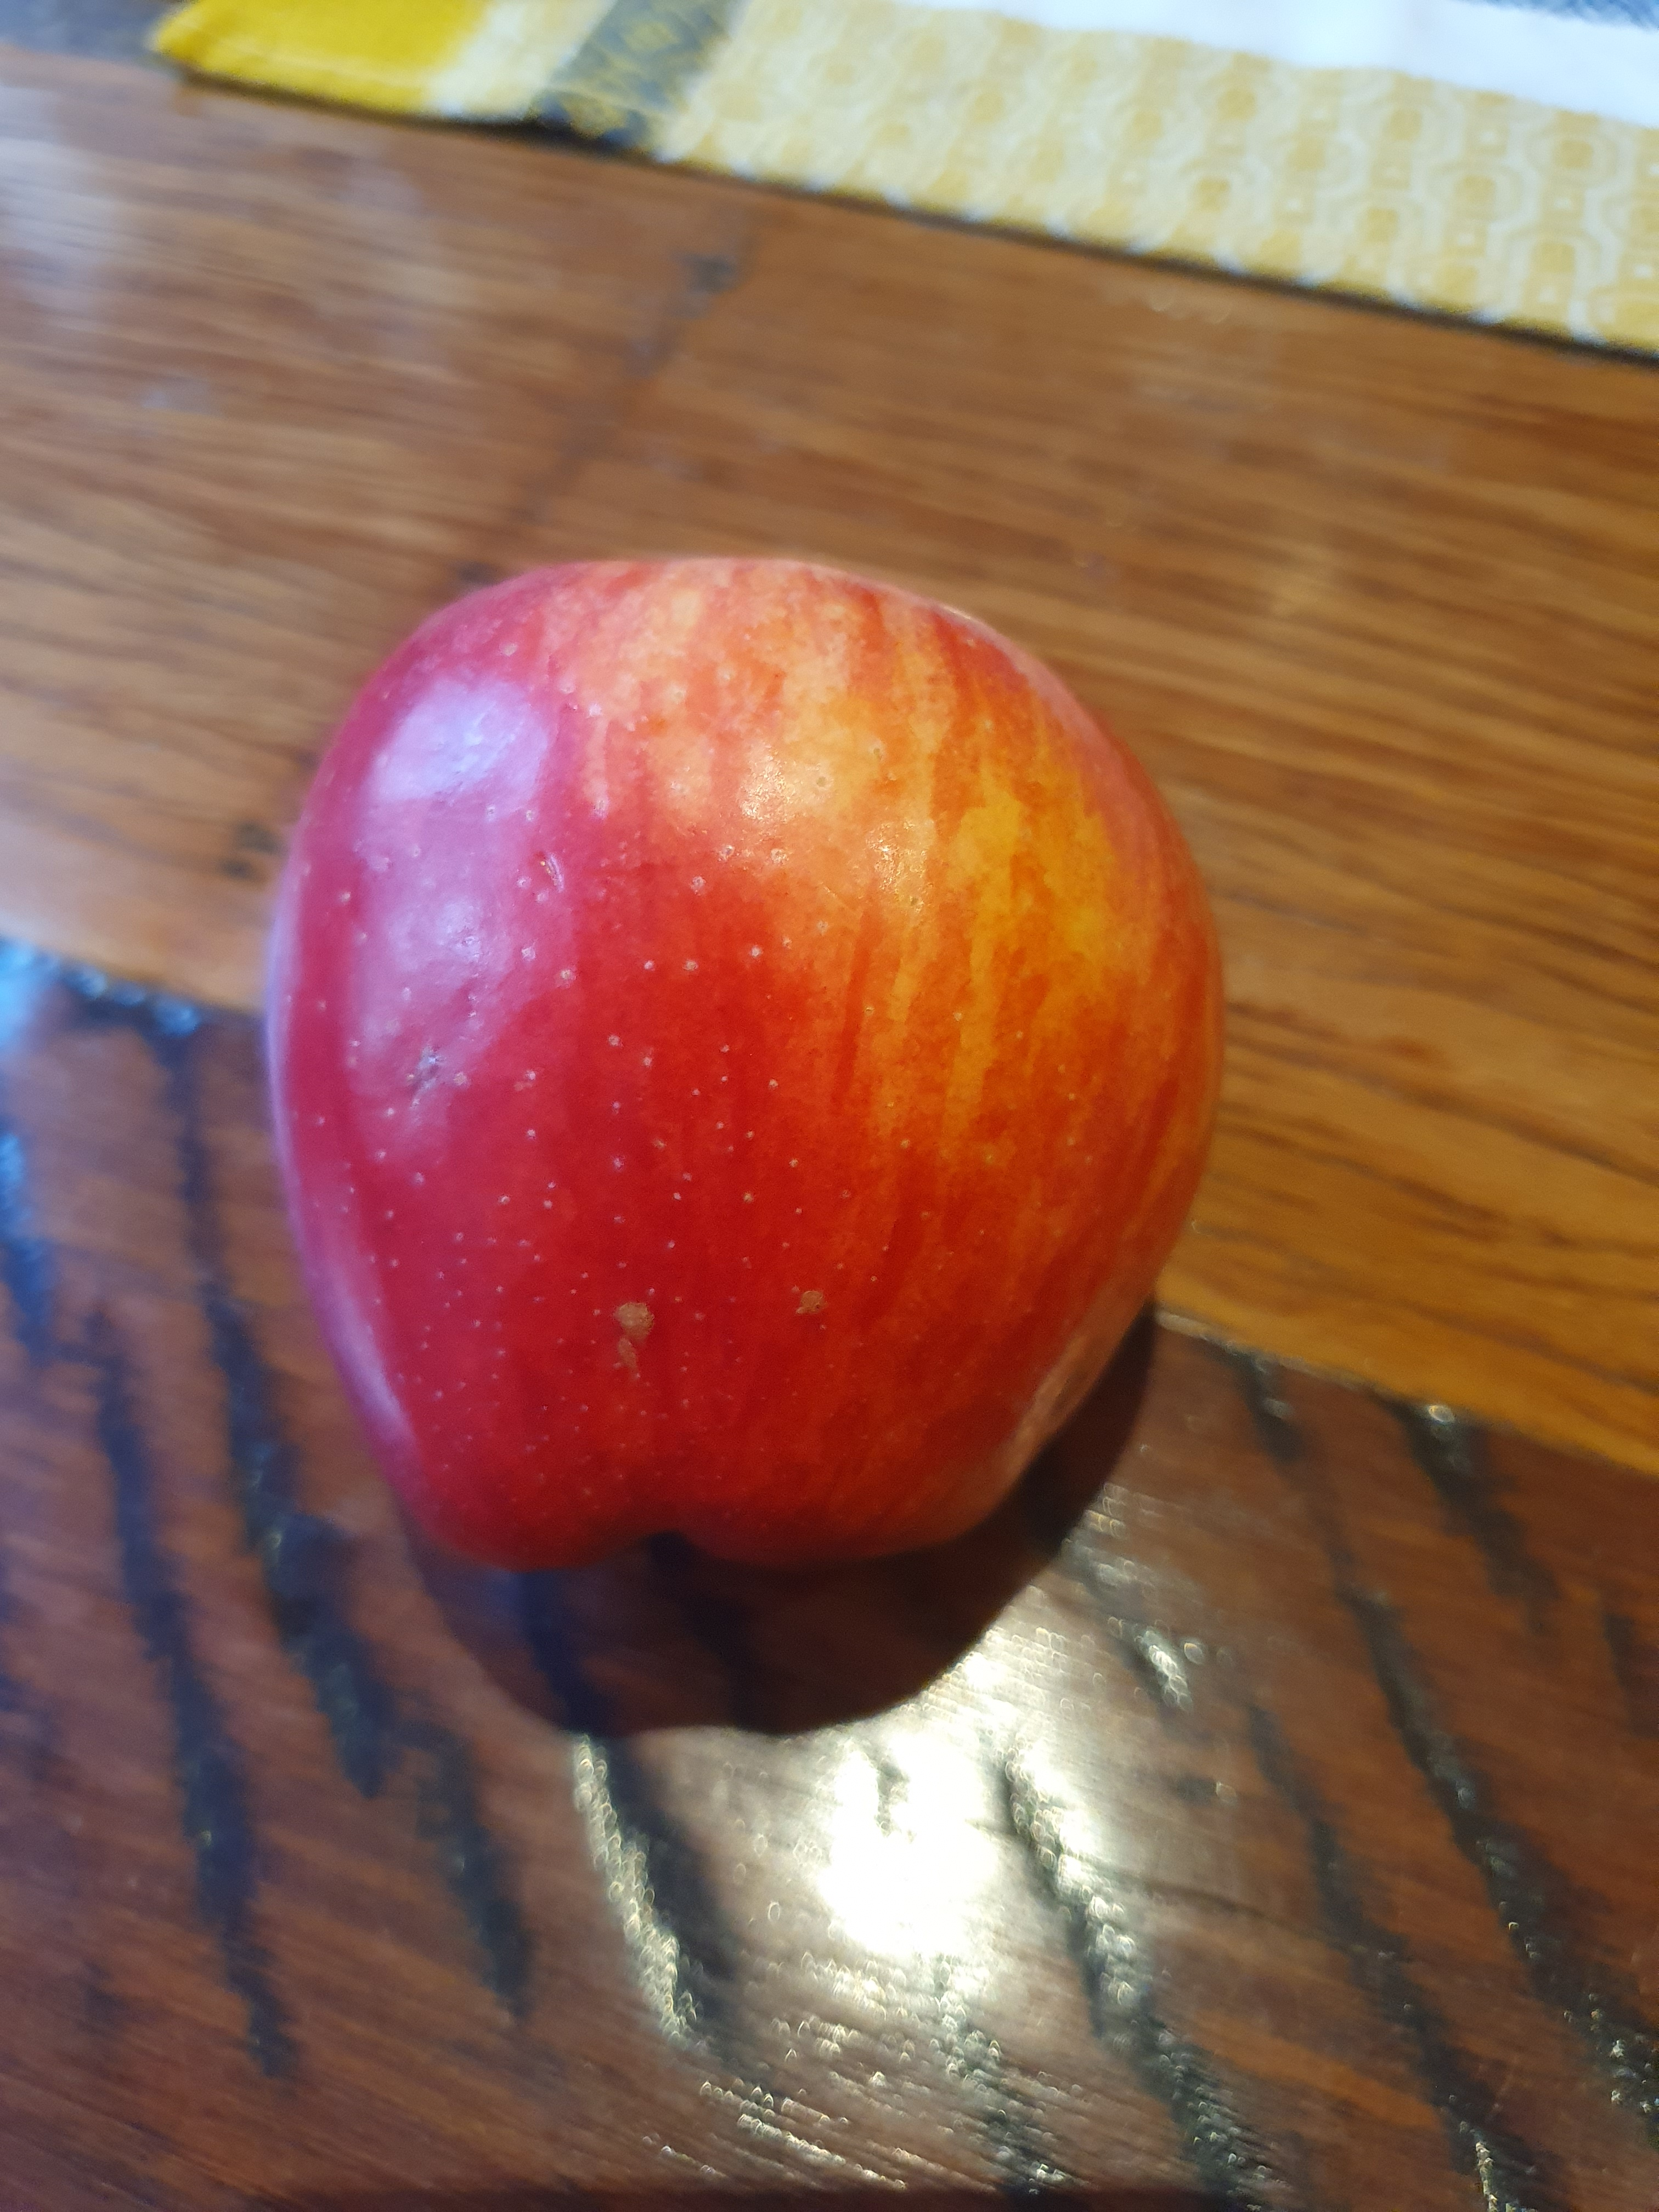red_apple: (213, 535, 1237, 1622)
